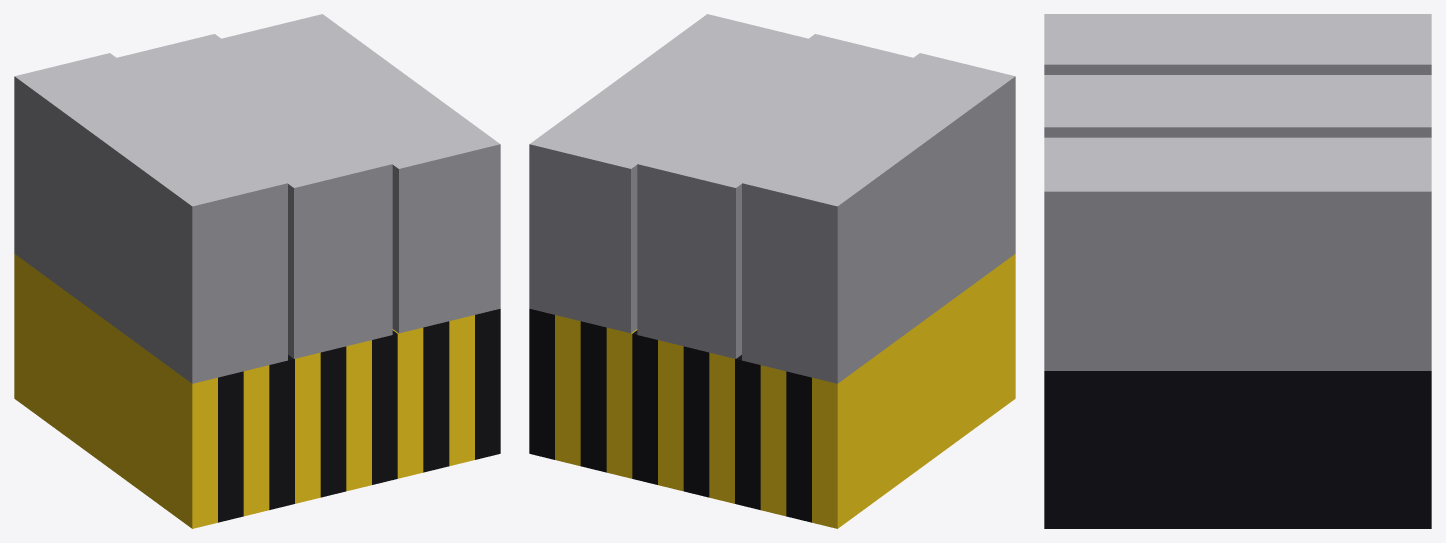
Rendered from gimmick_platform_fall.obj.
3 views of the same model, side by side, from view 1: azimuth 30°, elevation 25°; view 2: azimuth 150°, elevation 25°; view 3: azimuth 270°, elevation 25° (orthographic). The views are drawn at different scales.
Parts seen in each view (by area): view 1: gimmick_platform_fall; view 2: gimmick_platform_fall; view 3: gimmick_platform_fall.
Boxes of the visible parts, x1,y1,x2,y2 form: gimmick_platform_fall: (14,14,500,528); gimmick_platform_fall: (529,14,1015,528); gimmick_platform_fall: (1044,14,1431,528).
Size of the model in its own units: 1 by 1 by 1.
